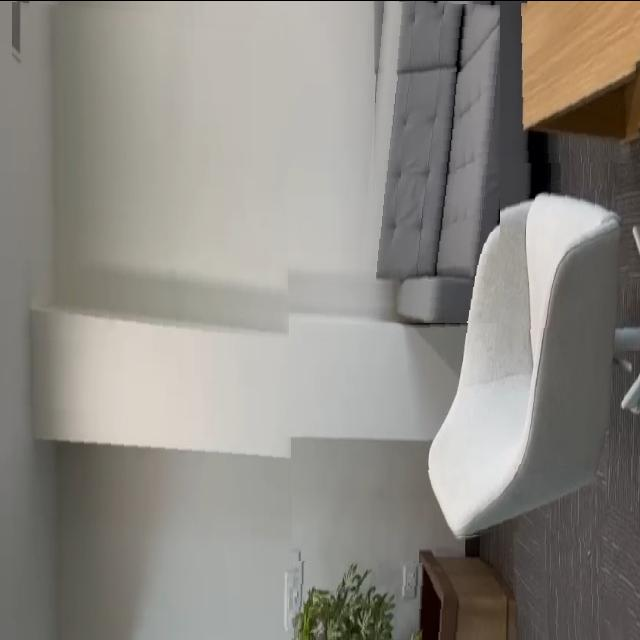floor: (514, 515, 638, 640)
furniture: (420, 150, 640, 538), (356, 0, 500, 322), (500, 0, 640, 162), (282, 560, 502, 640)
wall: (12, 0, 294, 640)
